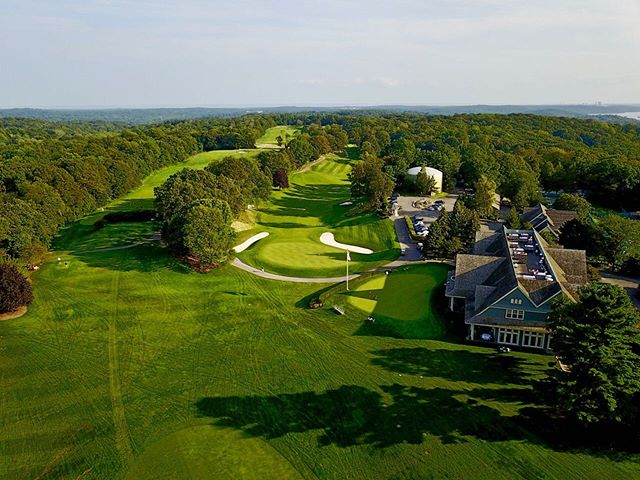building: (443, 195, 598, 359)
grass: (1, 270, 620, 475)
sky: (1, 1, 638, 110)
tree: (558, 280, 640, 457)
vegetation: (1, 113, 627, 213)
